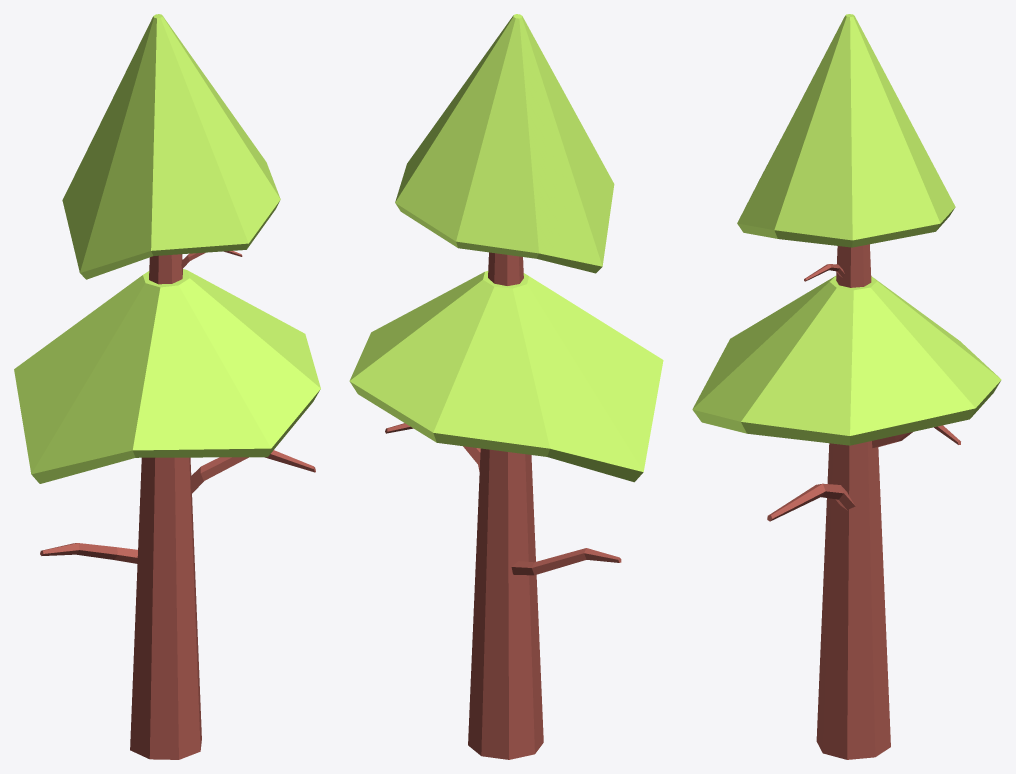
The model's file is Tree3_autumn.FBX.
3 views of the same model, side by side, from view 1: azimuth 30°, elevation 25°; view 2: azimuth 150°, elevation 25°; view 3: azimuth 270°, elevation 25° (orthographic).
Visible parts, largest first — view 1: Tree 2 summer.006; view 2: Tree 2 summer.006; view 3: Tree 2 summer.006.
Boxes of the visible parts, x1,y1,x2,y2 form: Tree 2 summer.006: (14, 14, 320, 759); Tree 2 summer.006: (349, 14, 663, 759); Tree 2 summer.006: (692, 14, 1001, 759).
Size of the model in its own units: 2.66 by 6.81 by 2.64.
